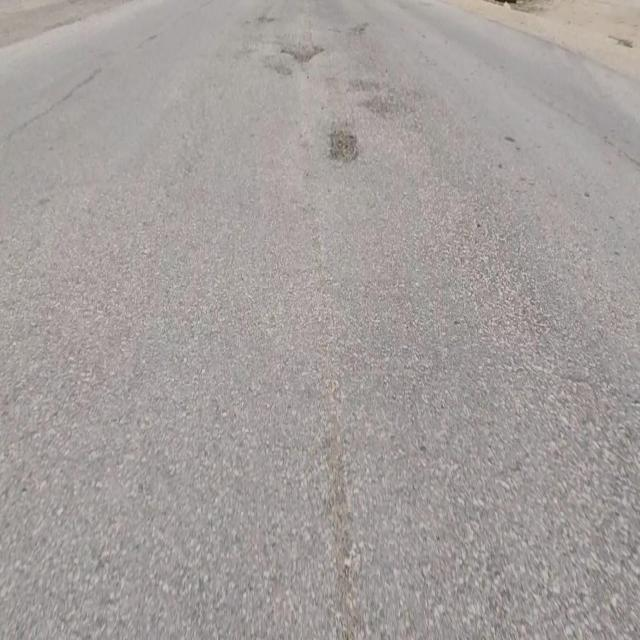Potholes: (328, 127, 361, 162), (281, 42, 325, 67)
